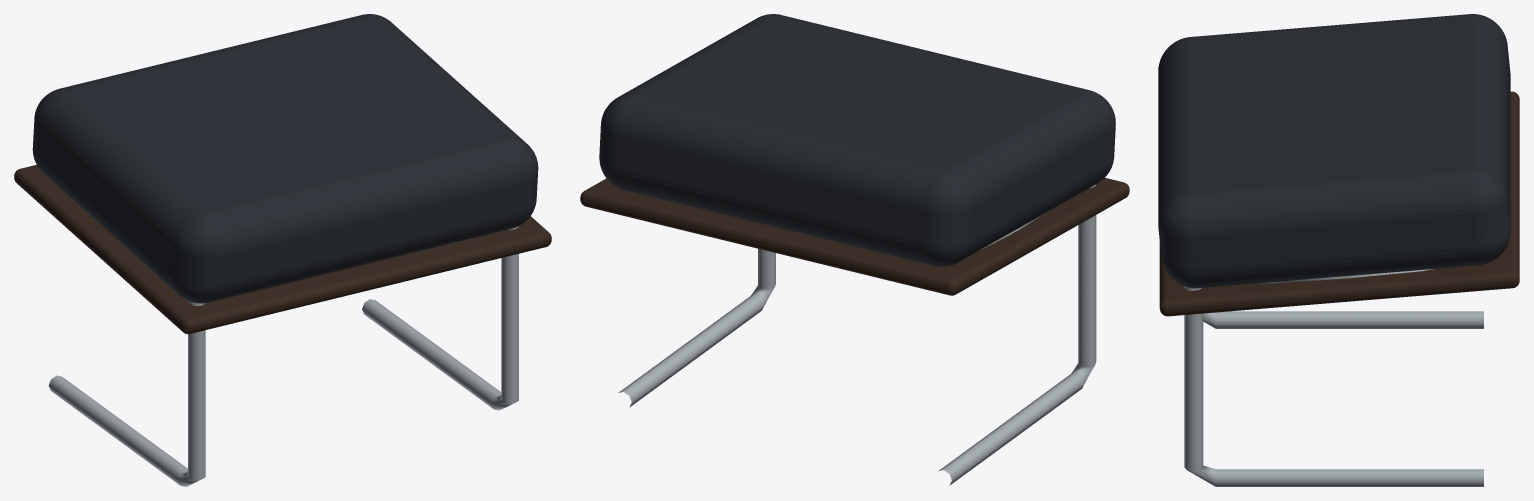
File: atelier-ottoman-cantilever-obsidian.glb
The picture shows the model from 3 angles, left to right: view 1: azimuth 30°, elevation 25°; view 2: azimuth 150°, elevation 25°; view 3: azimuth 270°, elevation 25°; orthographic projection. The views are drawn at different scales.
Size of the model in its own units: 0.5612 by 0.4418 by 0.4603.
